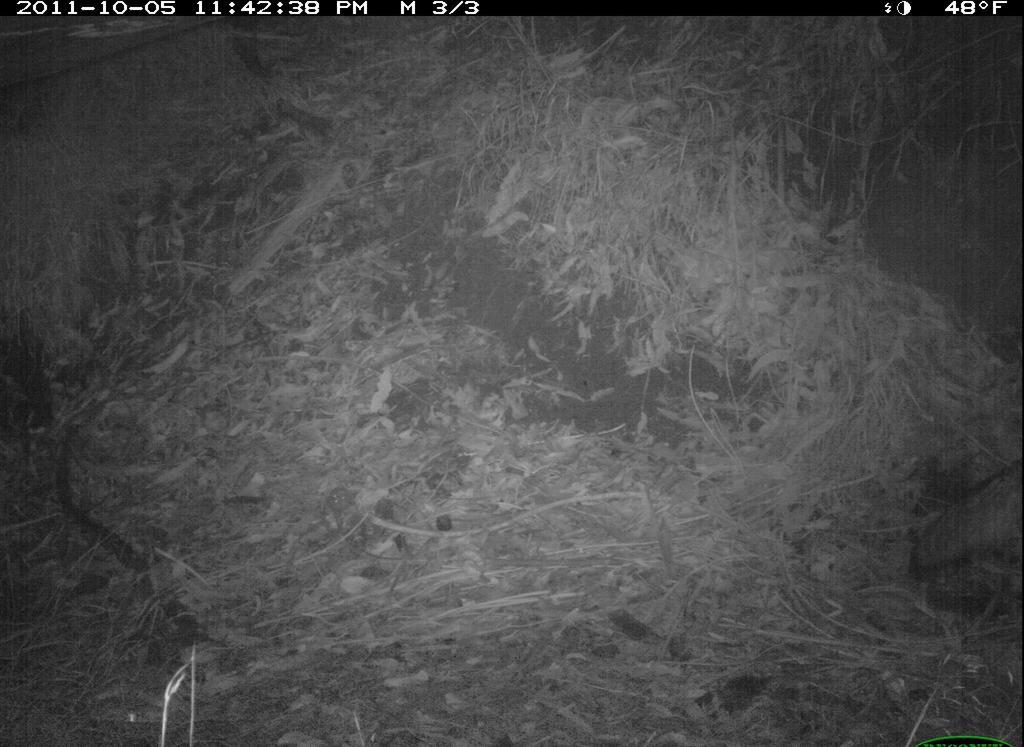coyote: (900, 449, 1023, 605)
